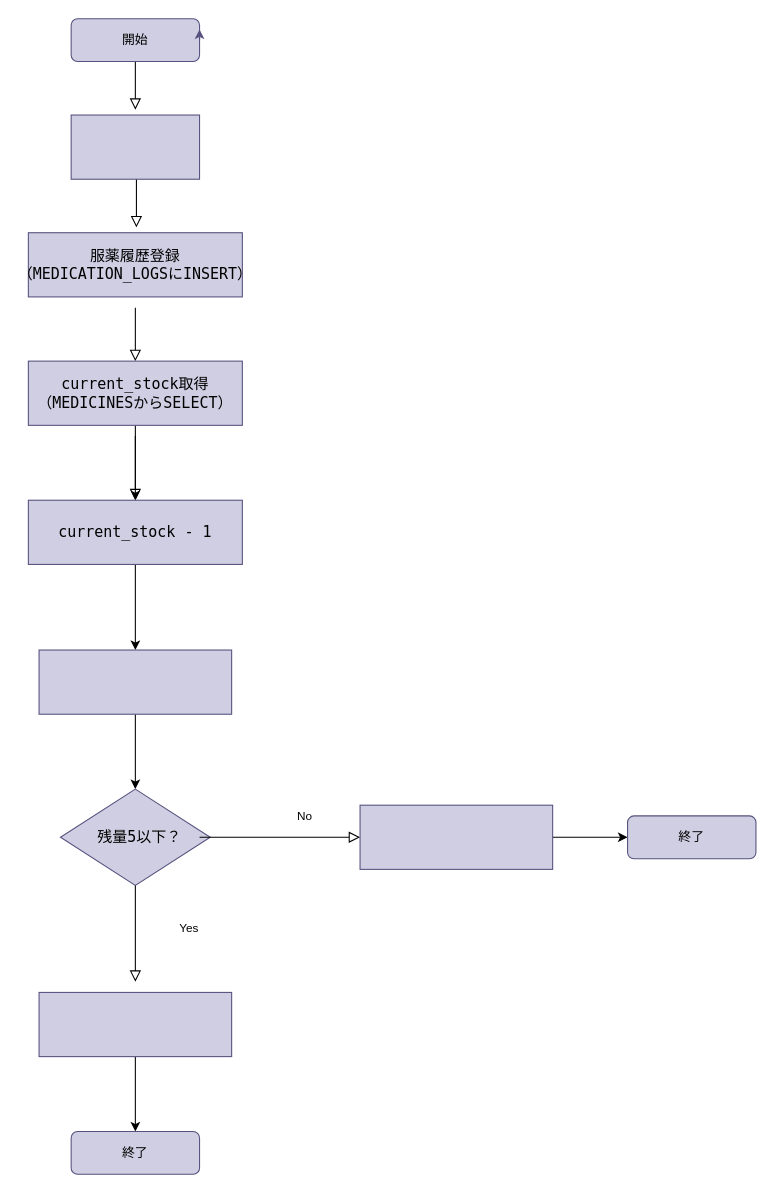
The diagram is 775 pixels wide and 1193 high, and some of its shapes have lost their labels. Here are the shapes that lost their labels. From the top down, the centre of each, then its label:
(135,146): 服薬ボタン押下
(135,681): DB更新 （MEDICINESをUPDATE）
(456,836): 通常表示
(135,1024): 残量不足アラート
